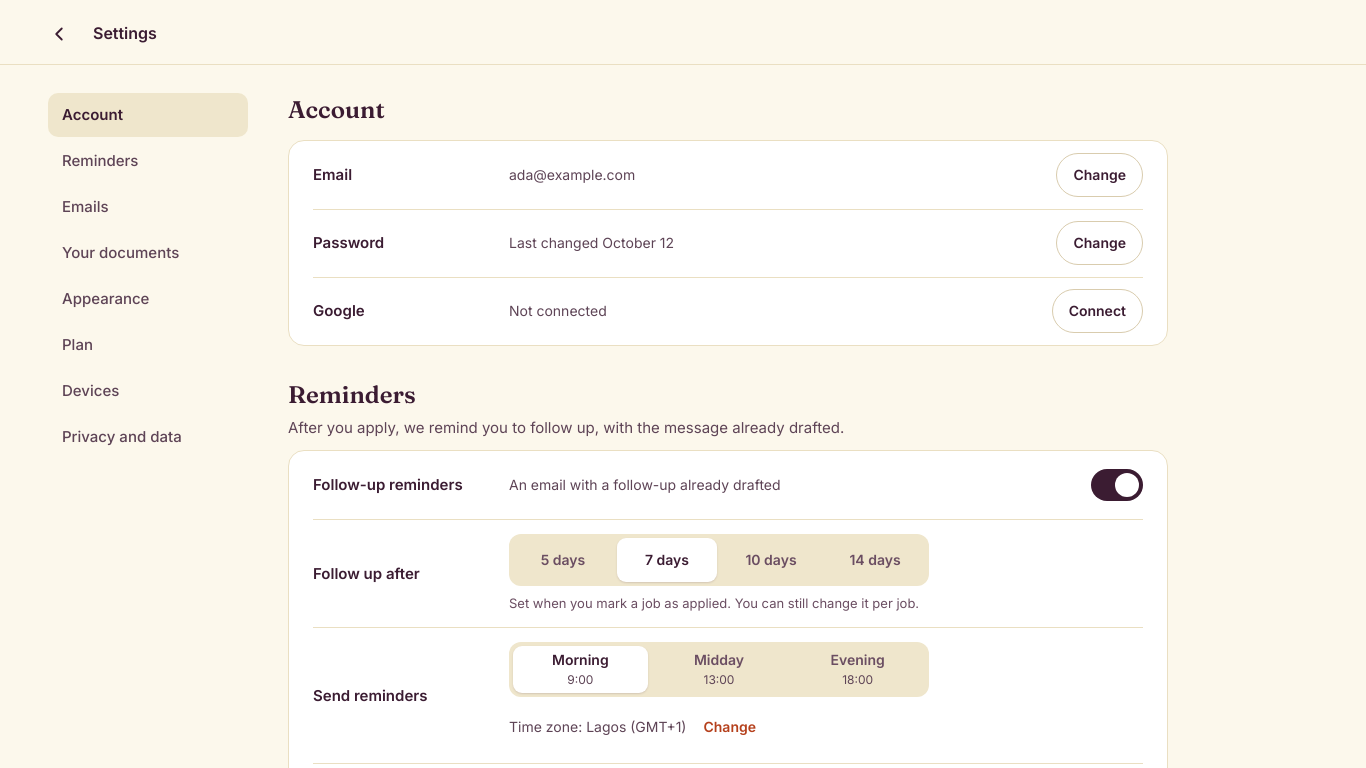
Test case: SettingsPage › says when no time zone matches
Click the button with aria-label "Change time zone": (730, 727) [694,705,765,749]
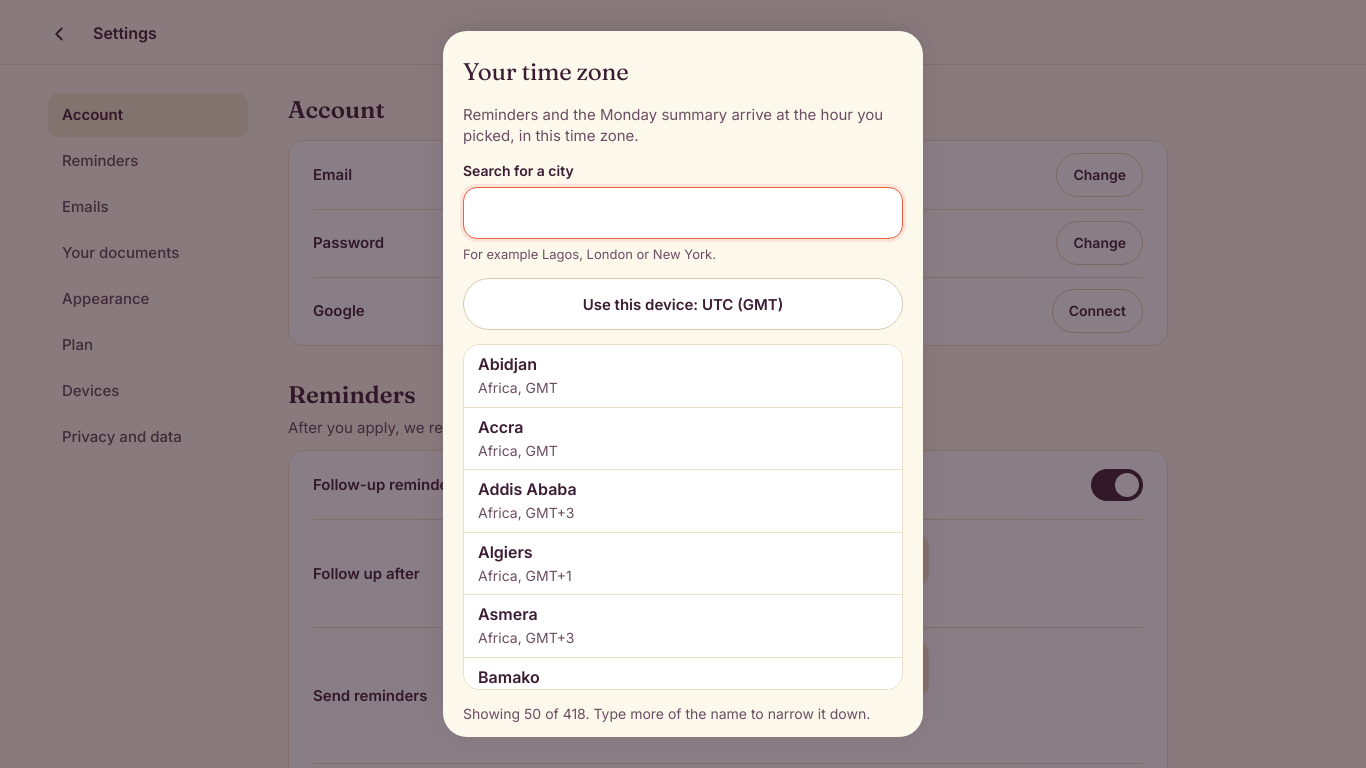
In the search field labelled "Search for a city": (683, 213) [463,187,903,239], type "qqqzzz"
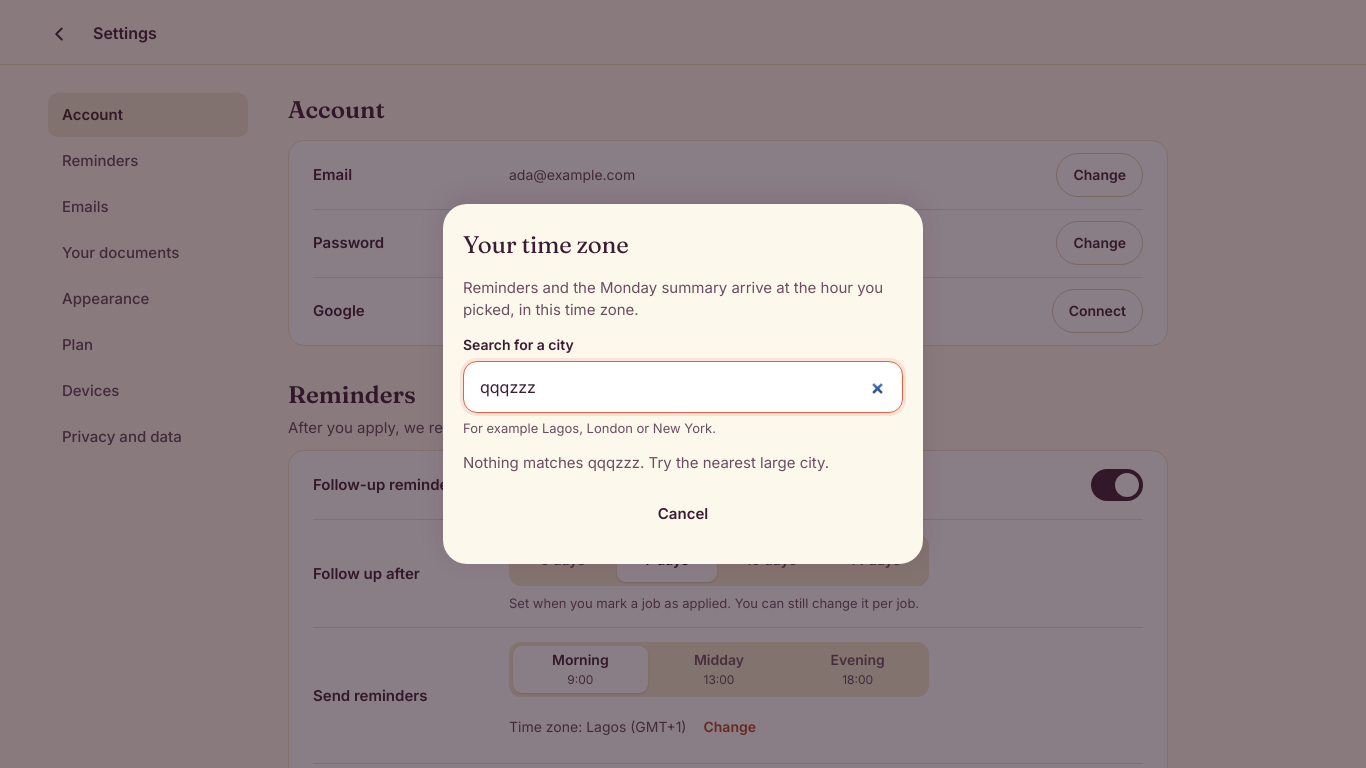
Check: the text "Nothing matches qqqzzz. Try the nearest large city." is shown, box [463,453,829,472]
